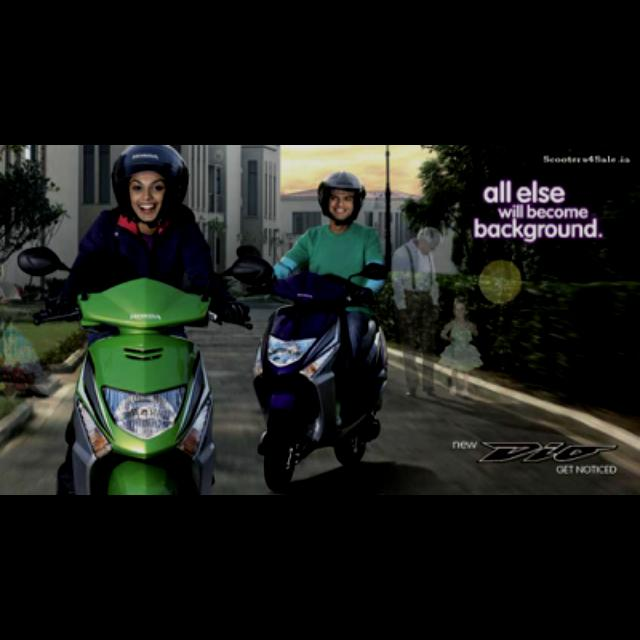With Helmet: (100, 148, 194, 220), (315, 166, 369, 224)
